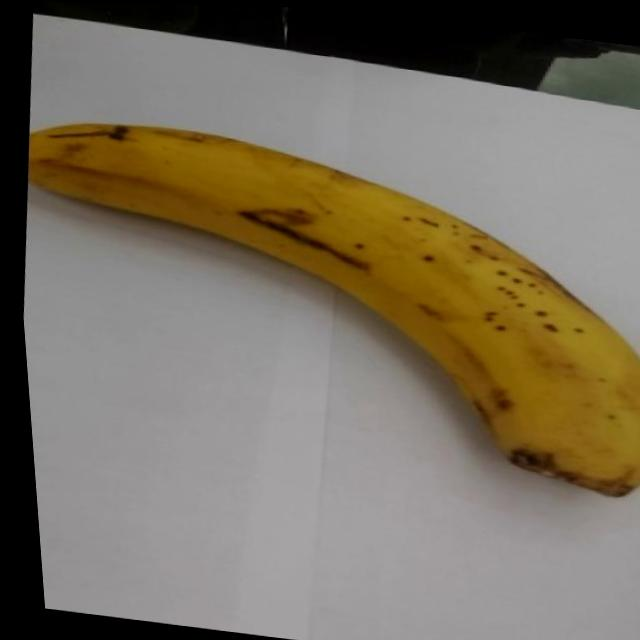Banana: (6, 104, 640, 505)
